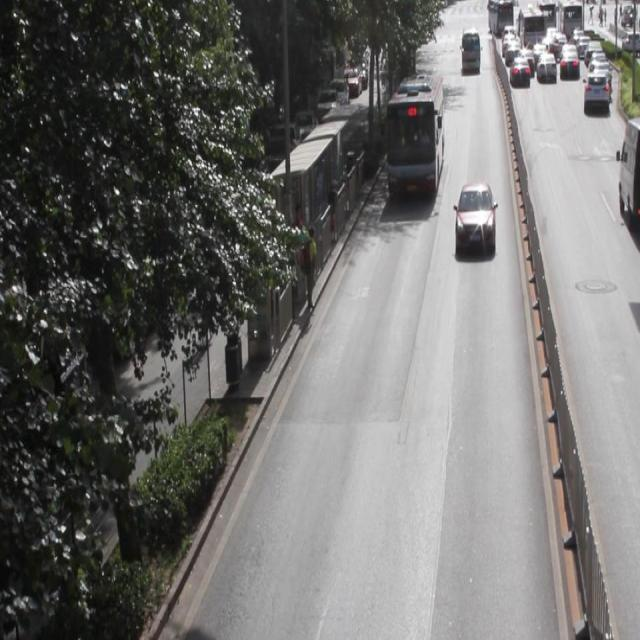car: (454, 184, 494, 249)
truck: (616, 120, 640, 232)
van: (386, 76, 443, 194)
